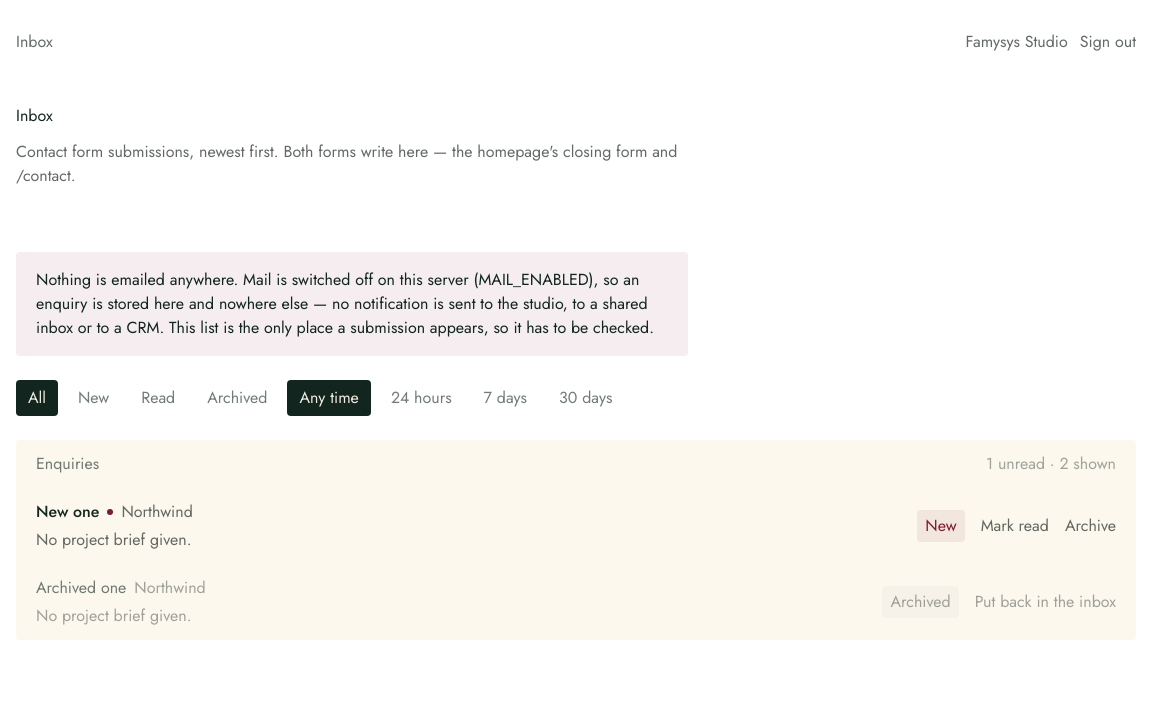
Test case: InboxScreen › filters by status
Click the button "Archived": {"x": 237, "y": 398} top-left (195, 380), bottom-right (279, 416)
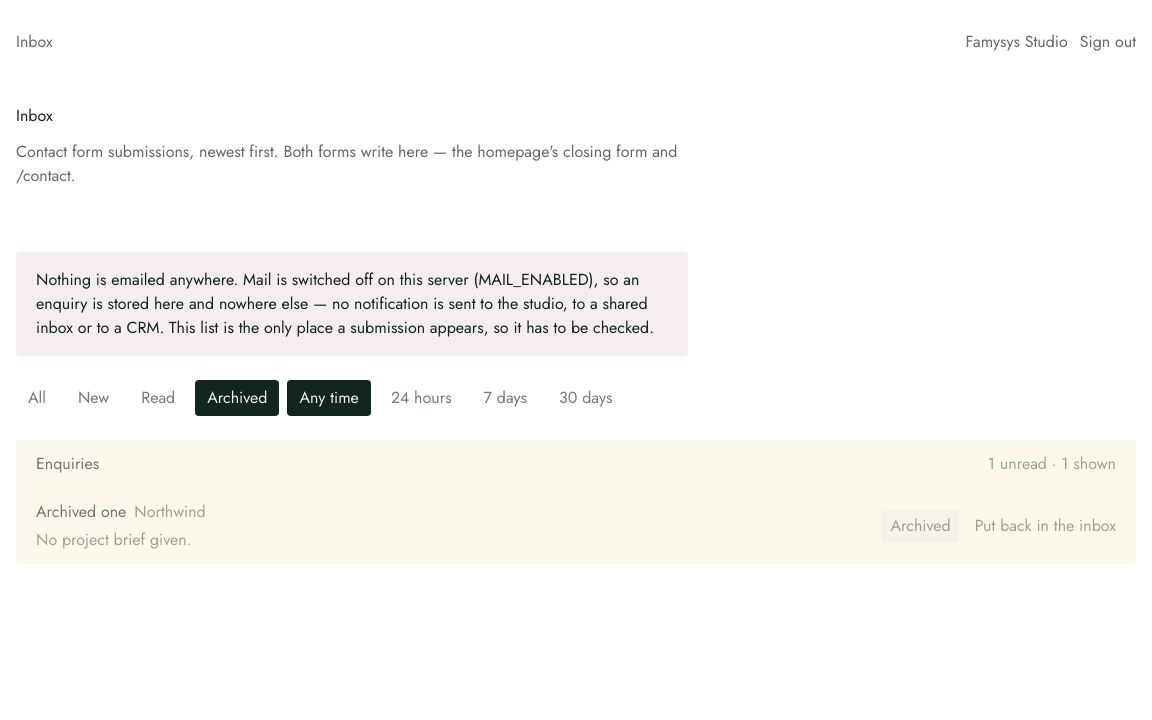
Check: the text "Archived one" is shown, box top-left (36, 500), bottom-right (126, 524)
Check: the button "New one" is gone
